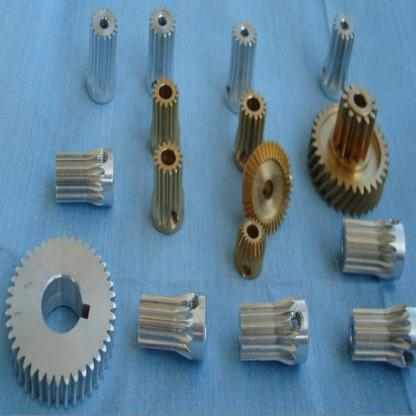FOD: (3, 228, 118, 415), (306, 98, 392, 216), (134, 286, 210, 362), (235, 292, 307, 372), (240, 140, 294, 240), (346, 300, 416, 370), (51, 142, 119, 214), (339, 214, 406, 286), (83, 3, 122, 108), (332, 81, 379, 167), (148, 139, 187, 237), (318, 8, 356, 98), (224, 17, 259, 111), (233, 88, 268, 168), (147, 74, 180, 152), (147, 2, 176, 82), (232, 217, 267, 280)
